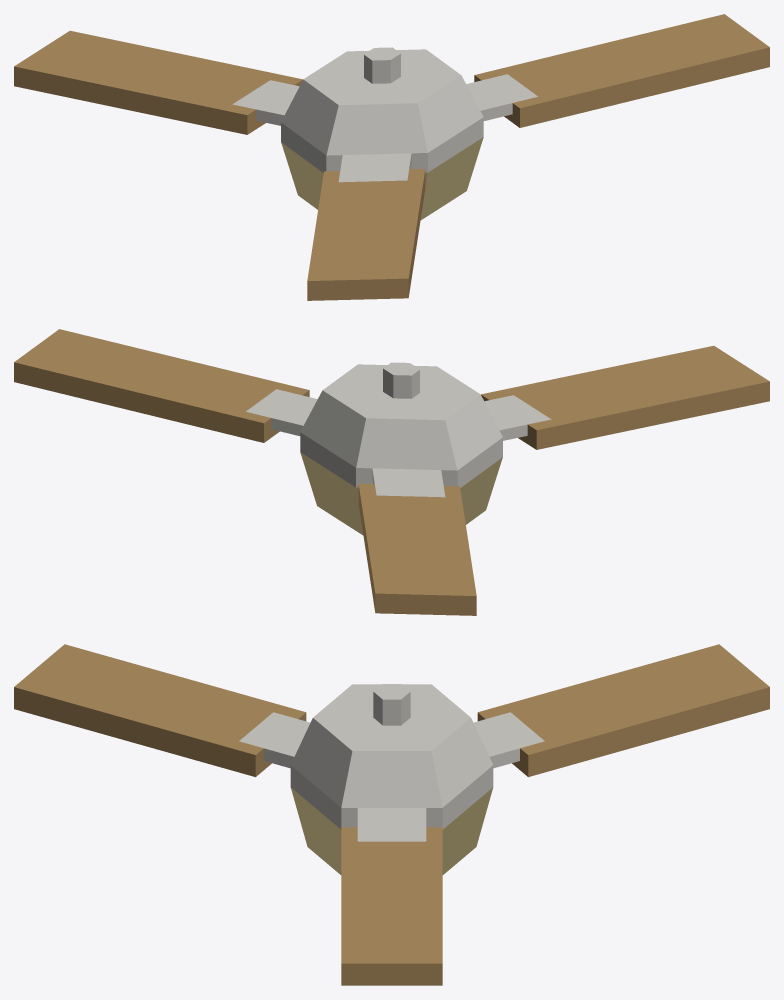
Rendered from ceiling_fan.glb.
3 views of the same model, one above another, from view 1: azimuth 30°, elevation 25°; view 2: azimuth 150°, elevation 25°; view 3: azimuth 270°, elevation 25° (orthographic). The views are drawn at different scales.
Parts seen in each view (by area): view 1: ceiling_fan; view 2: ceiling_fan; view 3: ceiling_fan.
Boxes of the visible parts, <box> form: ceiling_fan: <box>14,14,769,300</box>; ceiling_fan: <box>14,329,769,615</box>; ceiling_fan: <box>14,644,769,985</box>.
Bounding box in the file's own units: 1.1 × 0.3 × 1.1.
